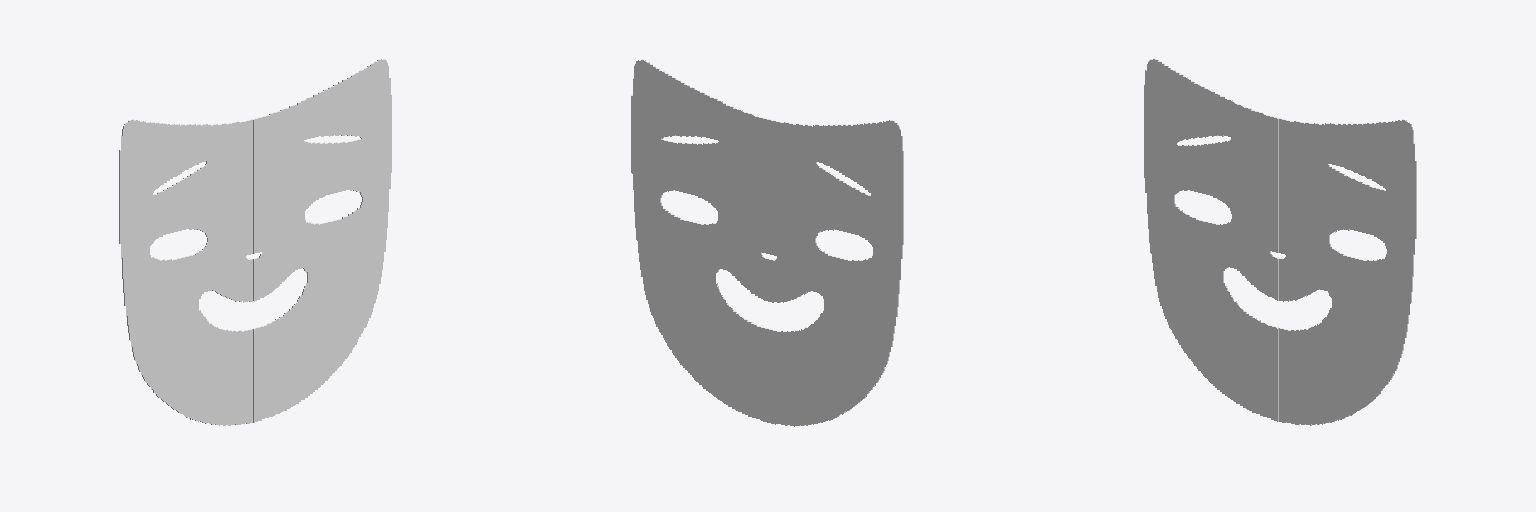
File: Mask.obj
3 views of the same model, side by side, from view 1: azimuth 30°, elevation 25°; view 2: azimuth 150°, elevation 25°; view 3: azimuth 330°, elevation 25° (orthographic).
Parts seen in each view (by area): view 1: object 1; view 2: object 1; view 3: object 1.
Boxes of the visible parts, <box> form: object 1: <box>119,59,391,425</box>; object 1: <box>631,59,903,426</box>; object 1: <box>1144,58,1416,425</box>.
Size of the model in its own units: 21.6 by 25.2 by 0.2.